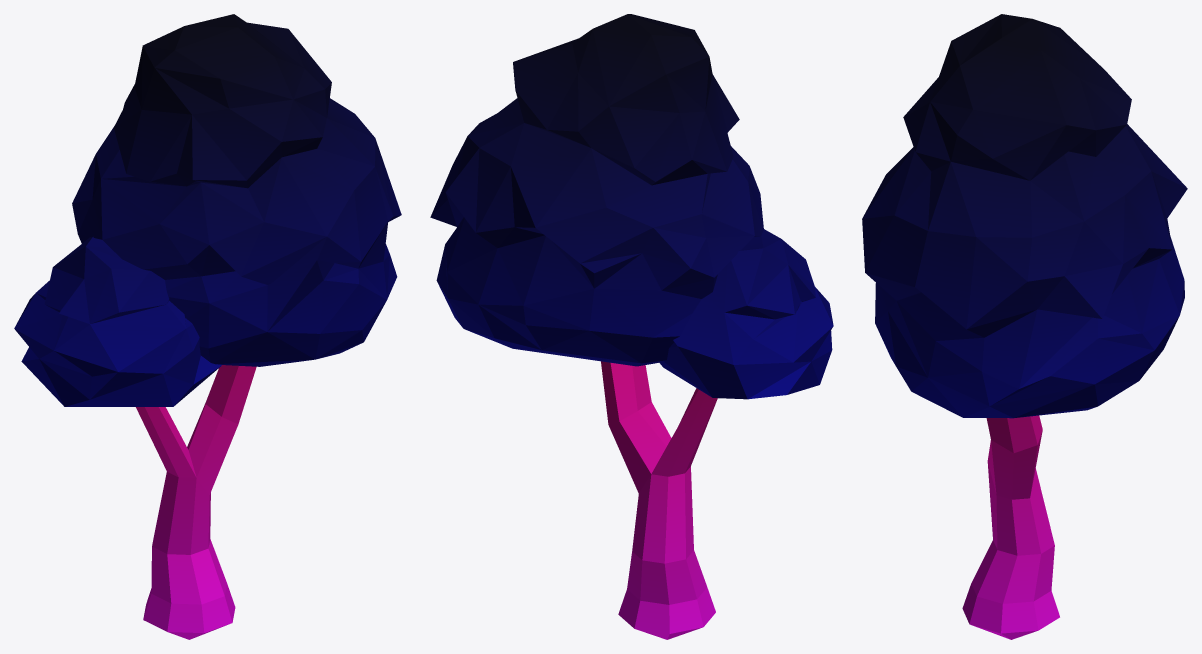
File: synty-tree-round-04.gltf
The picture shows the model from 3 angles, left to right: view 1: azimuth 30°, elevation 25°; view 2: azimuth 150°, elevation 25°; view 3: azimuth 270°, elevation 25°; orthographic projection. The views are drawn at different scales.
Parts seen in each view (by area): view 1: SM_Tree_Round_04; view 2: SM_Tree_Round_04; view 3: SM_Tree_Round_04.
Part boxes in pixels (bbox=[...]): SM_Tree_Round_04: bbox=[14, 14, 401, 639]; SM_Tree_Round_04: bbox=[430, 14, 833, 639]; SM_Tree_Round_04: bbox=[862, 14, 1187, 639].
Size of the model in its own units: 2.33 by 3.83 by 1.81.
